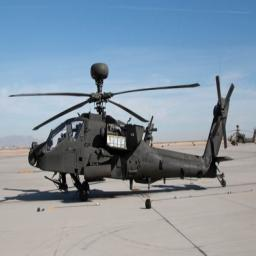helicopter: (16, 55, 237, 202)
